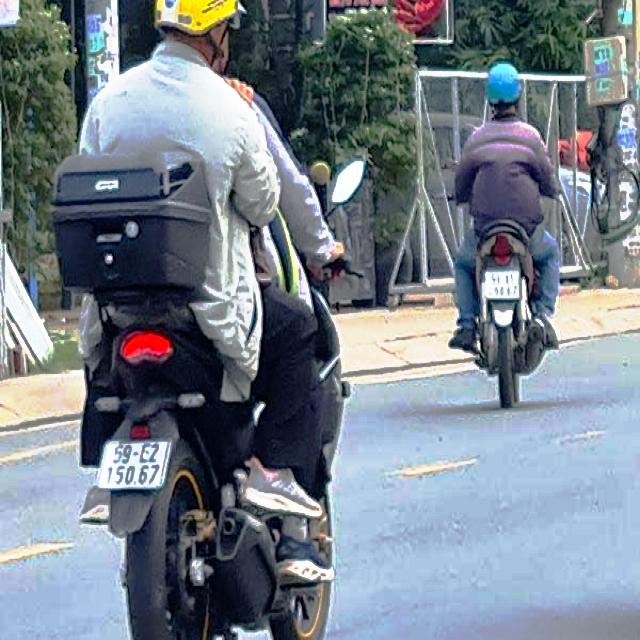license_plate: (100, 441, 171, 489)
